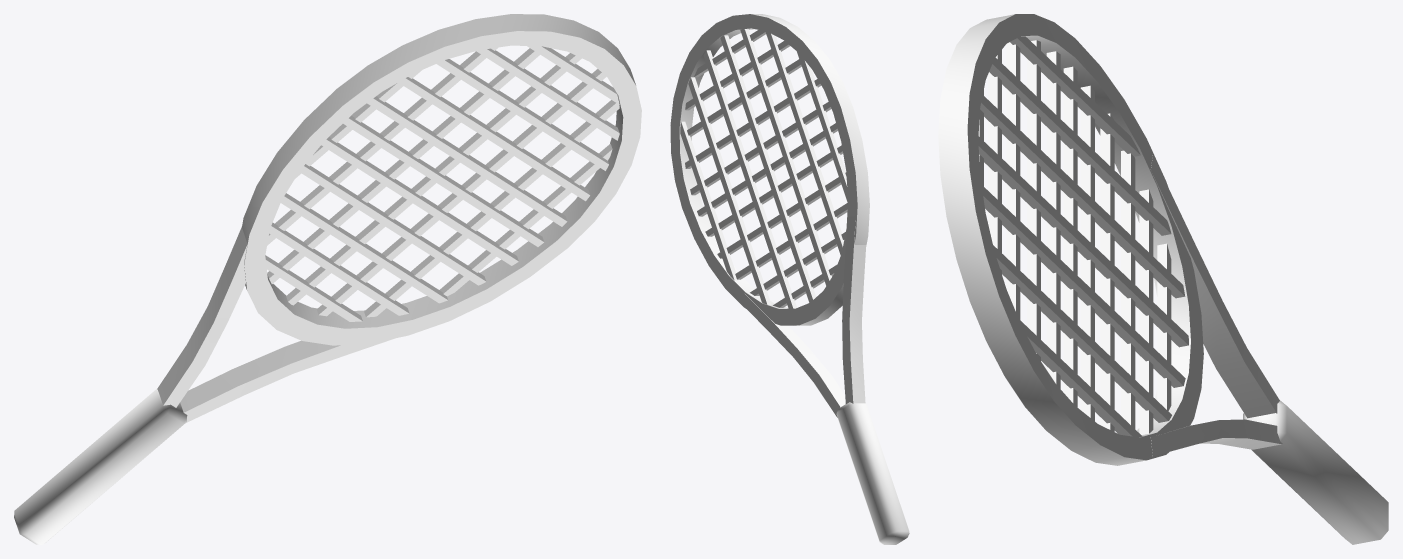
File: STATIC.ICO.obj
3 views of the same model, side by side, from view 1: azimuth 30°, elevation 25°; view 2: azimuth 150°, elevation 25°; view 3: azimuth 270°, elevation 25° (orthographic). The views are drawn at different scales.
Size of the model in its own units: 3.82 by 4.3 by 2.49.
1 material, 1 textured.
